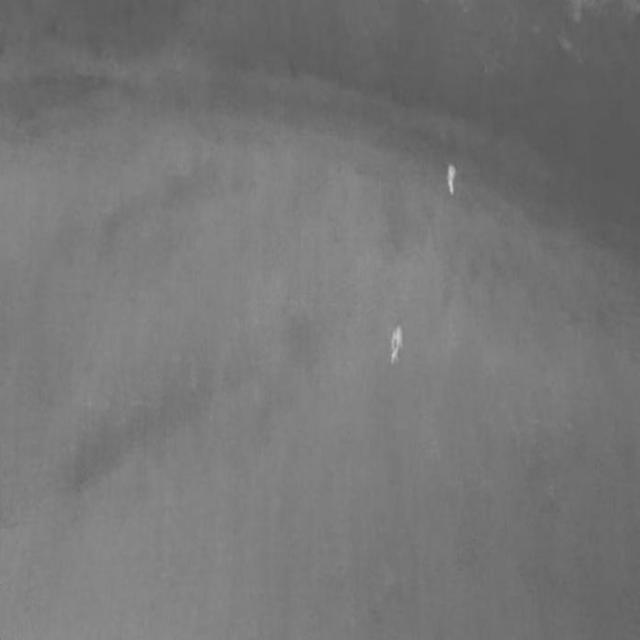person: (390, 326, 404, 367), (446, 164, 457, 197)
